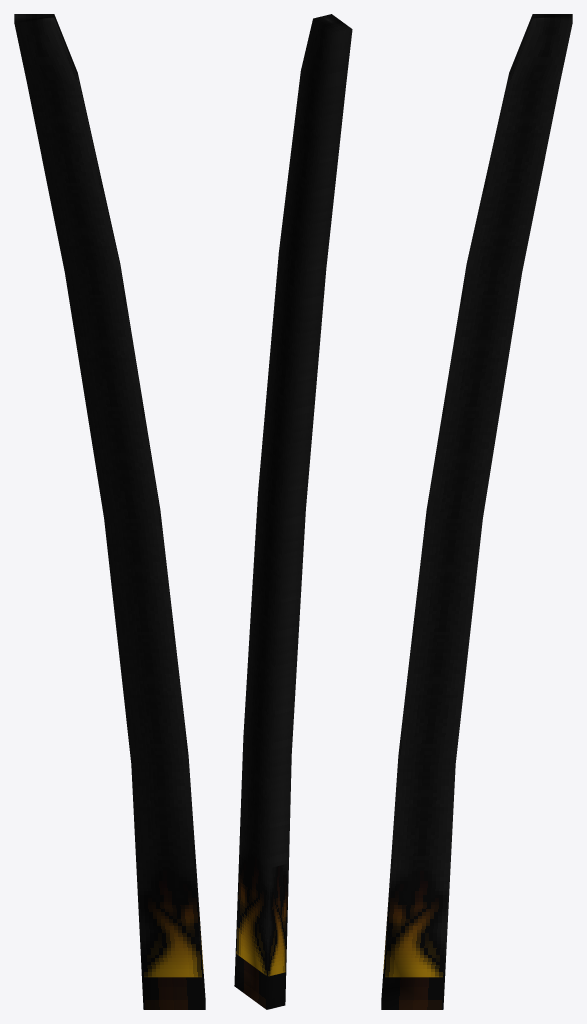
Rendered from sheath.fbx.
The picture shows the model from 3 angles, left to right: view 1: azimuth 90°, elevation 25°; view 2: azimuth 210°, elevation 25°; view 3: azimuth 270°, elevation 25°; orthographic projection. The views are drawn at different scales.
Parts seen in each view (by area): view 1: Plane.001; view 2: Plane.001; view 3: Plane.001.
Part boxes in pixels (<box>): Plane.001: <box>14,14,205,1009</box>; Plane.001: <box>234,14,352,1009</box>; Plane.001: <box>381,14,572,1009</box>.
Bounding box in the file's own units: 0.06 × 3.15 × 0.554.
1 material, 1 textured.
